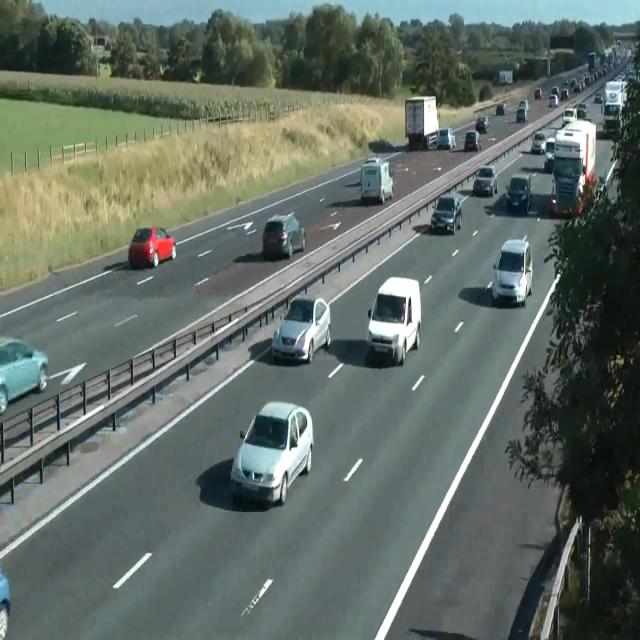bus: (230, 400, 314, 506), (0, 336, 48, 414), (128, 226, 176, 269), (0, 569, 10, 639), (595, 176, 607, 200), (475, 115, 489, 134), (562, 107, 576, 126), (423, 131, 437, 149), (575, 102, 587, 118), (516, 106, 527, 122), (548, 94, 558, 108), (519, 99, 529, 112), (496, 103, 506, 116), (534, 86, 542, 100), (560, 88, 568, 100), (594, 93, 602, 103)
jeep: (365, 276, 421, 366), (271, 294, 331, 364), (492, 236, 532, 306), (262, 212, 306, 260), (430, 193, 462, 234), (505, 172, 532, 212), (472, 164, 498, 197), (436, 127, 456, 150), (543, 135, 555, 170), (464, 130, 482, 151), (531, 130, 546, 153)
minibus: (550, 119, 596, 218), (404, 95, 438, 150), (360, 156, 394, 204), (600, 78, 624, 134), (602, 48, 614, 68), (499, 70, 513, 84), (588, 52, 596, 70)
